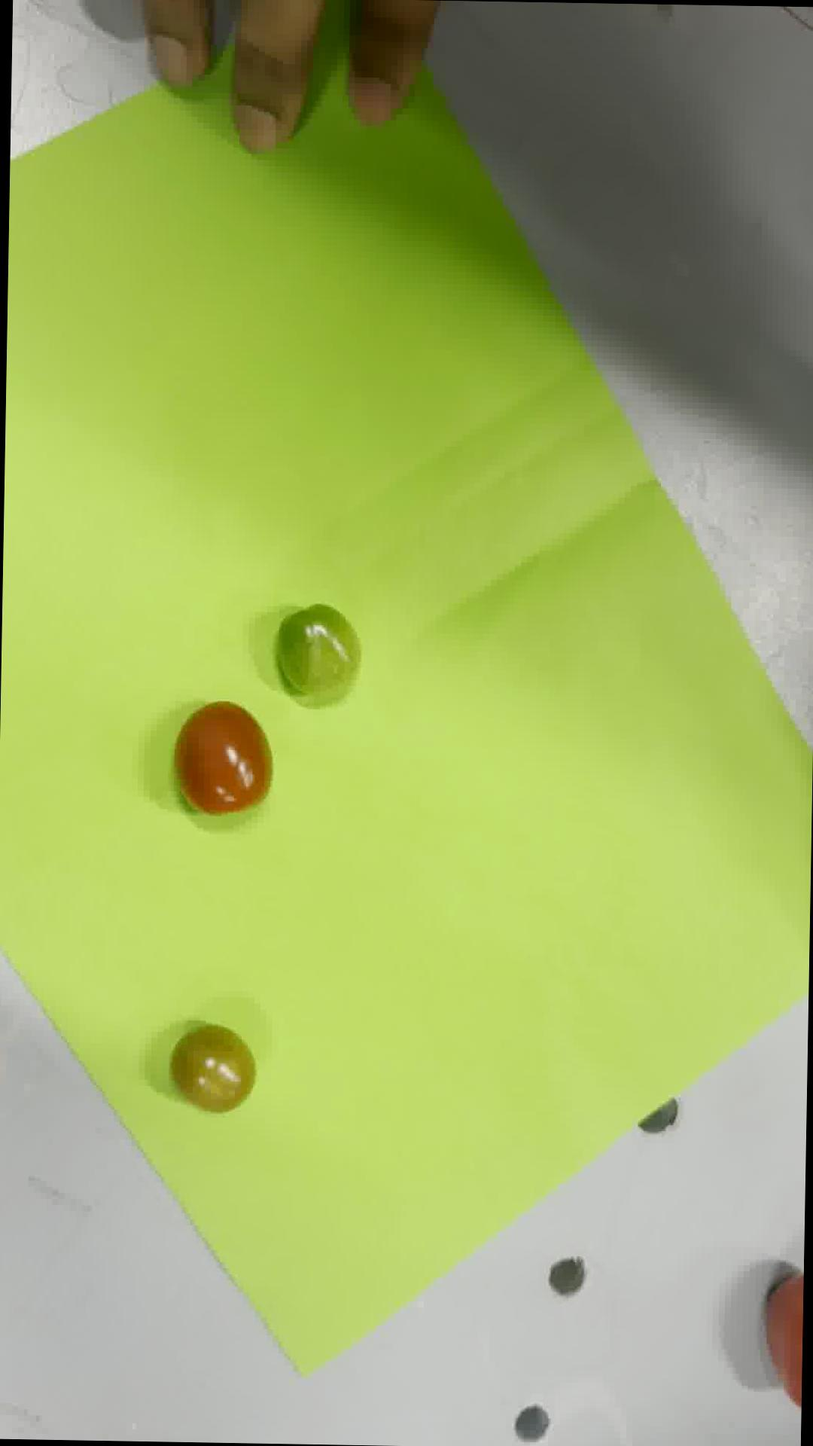green_cherry_tomato: (275, 603, 360, 707)
red_cherry_tomato: (173, 701, 272, 818)
yellow_cherry_tomato: (170, 1025, 255, 1112)
